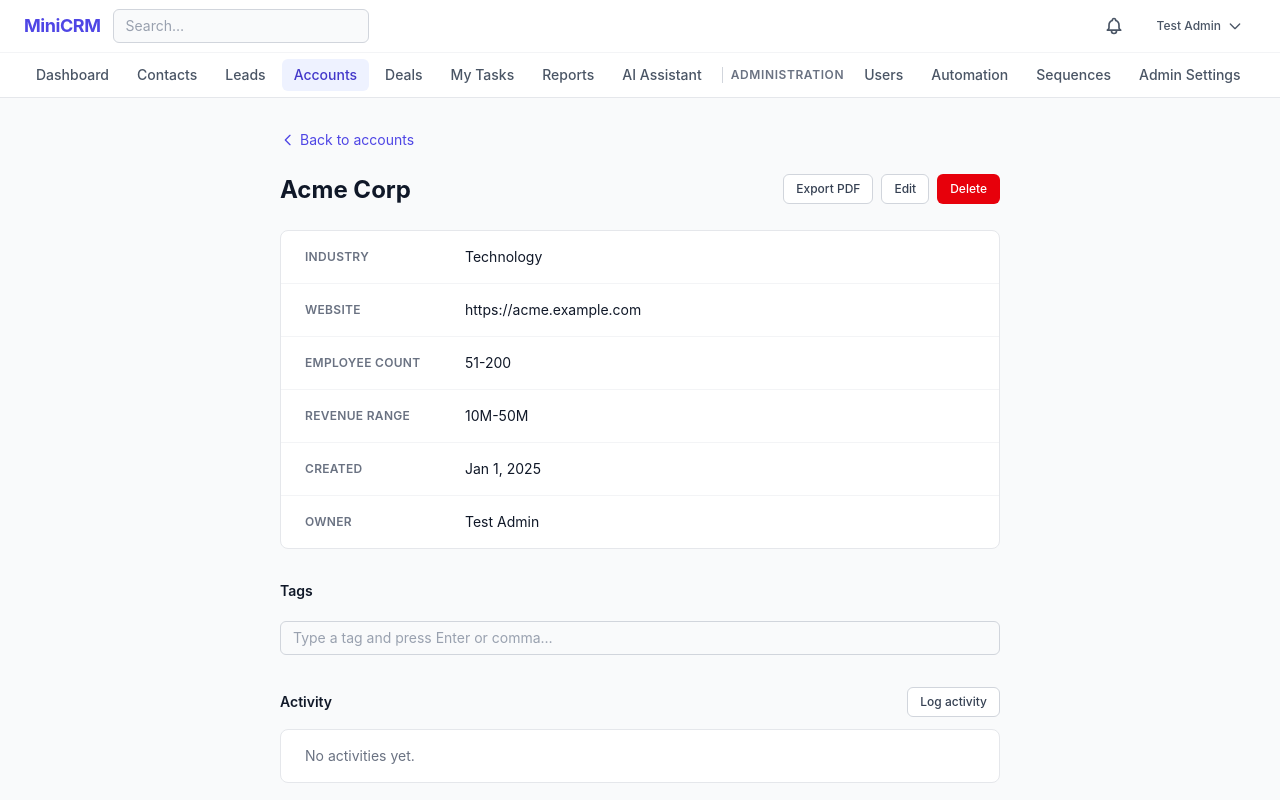
Test case: AccountDetailPage › opens the confirm-delete modal when Delete is clicked
Step 1. Click the button with test id "delete-account-button" → (969, 189), box [937,174,1000,204]
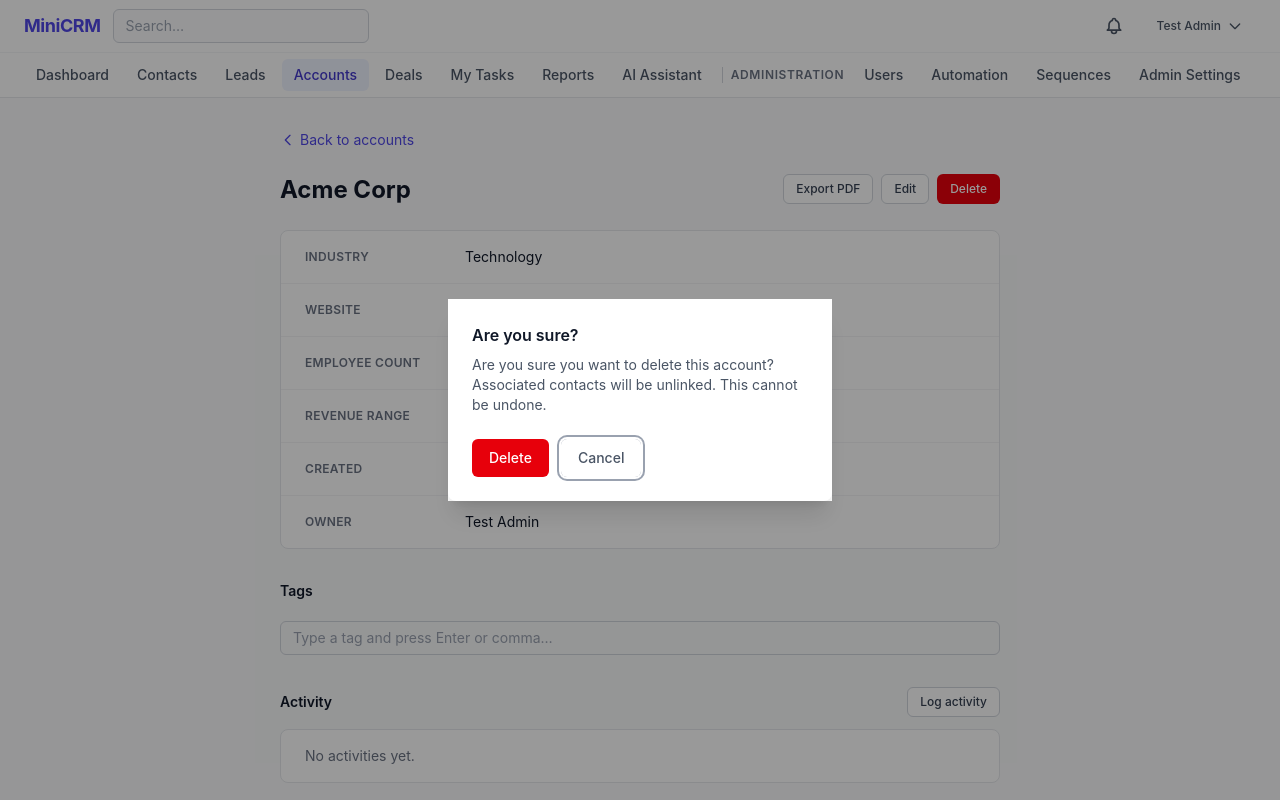
Check: the dialog with test id "confirm-delete-modal" is shown, box [448,299,832,501]
